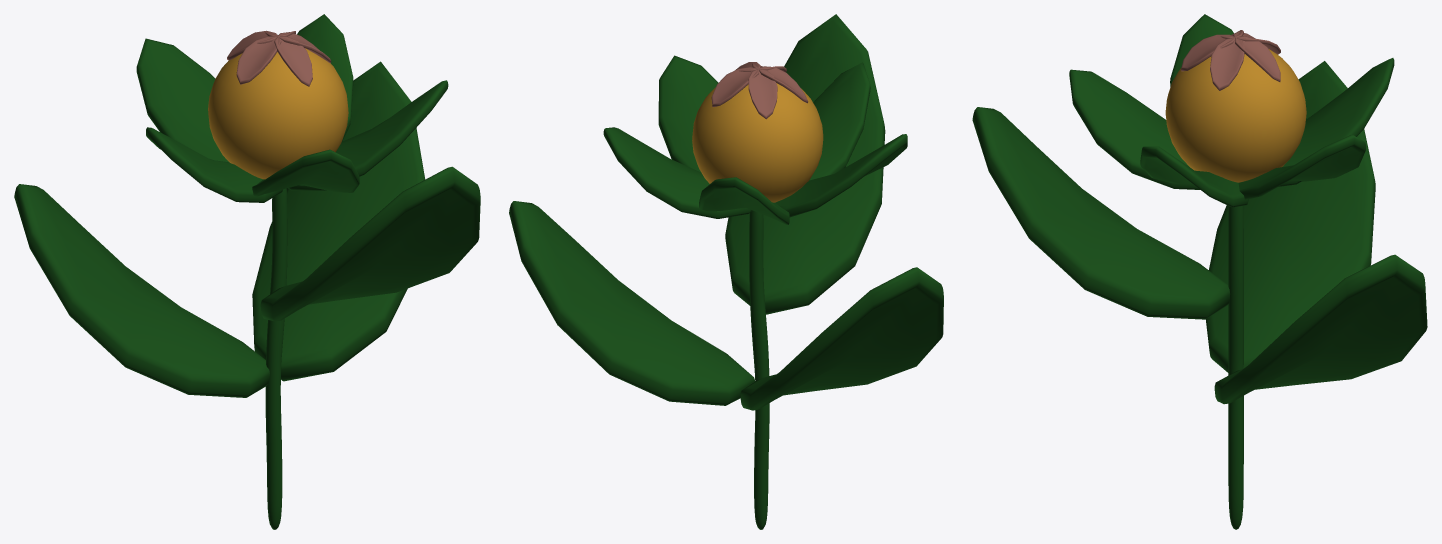
The model's file is special flower.fbx.
3 views of the same model, side by side, from view 1: azimuth 30°, elevation 25°; view 2: azimuth 150°, elevation 25°; view 3: azimuth 270°, elevation 25° (orthographic). The views are drawn at different scales.
Visible parts, largest first — view 1: special_flower; view 2: special_flower; view 3: special_flower.
Boxes of the visible parts, <box> form: special_flower: <box>14,14,480,529</box>; special_flower: <box>509,14,943,529</box>; special_flower: <box>972,14,1427,529</box>.
Size of the model in its own units: 277 by 314 by 262.
